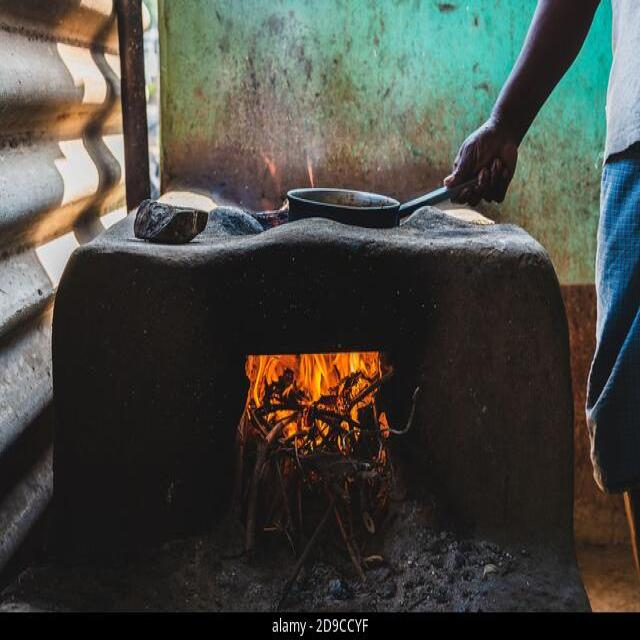fire: (246, 352, 390, 453)
